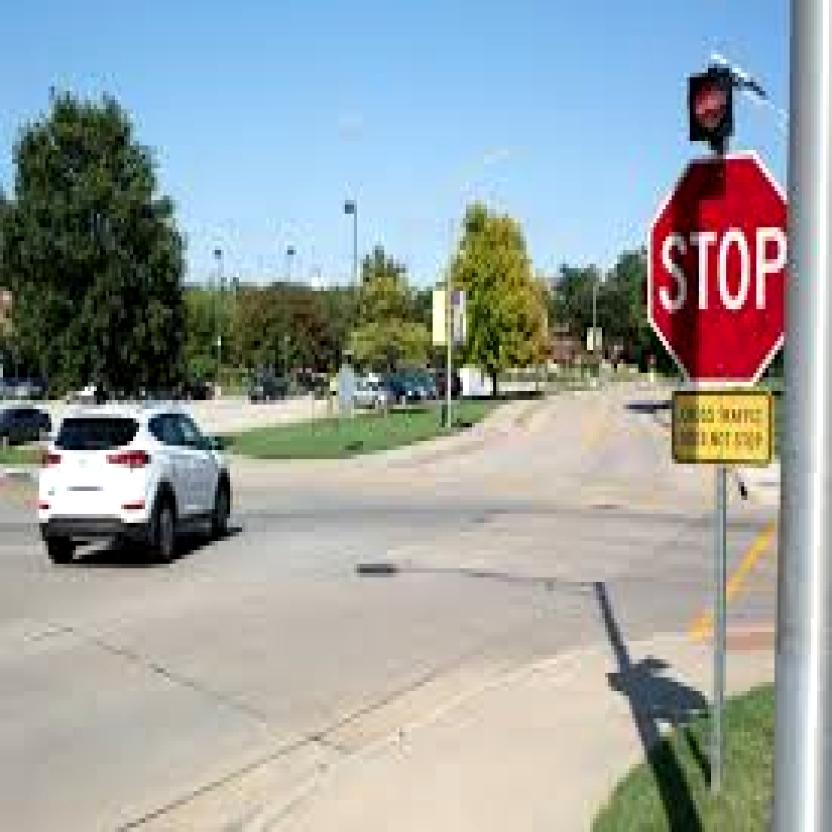Pole: (712, 465, 728, 788), (445, 350, 452, 430)
Sign: (648, 157, 790, 389)
